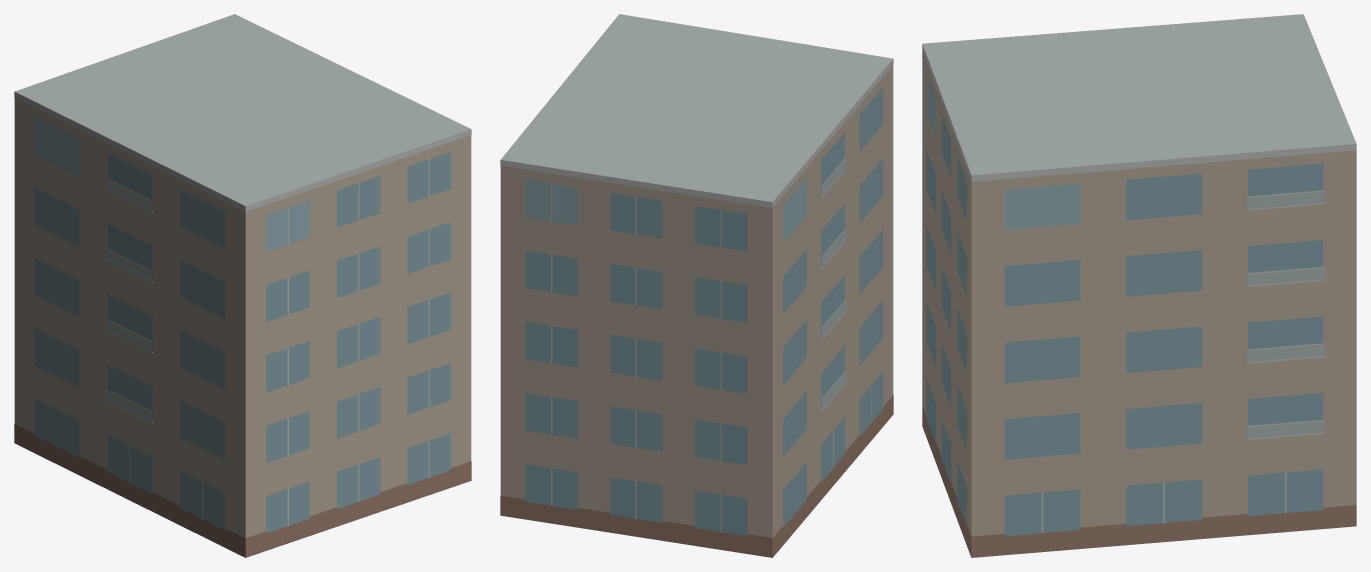
The model's file is survey-upis-32951314.glb.
3 views of the same model, side by side, from view 1: azimuth 30°, elevation 25°; view 2: azimuth 150°, elevation 25°; view 3: azimuth 270°, elevation 25° (orthographic). The views are drawn at different scales.
Parts seen in each view (by area): view 1: survey-upis-32951314.tmp; view 2: survey-upis-32951314.tmp; view 3: survey-upis-32951314.tmp.
Boxes of the visible parts, x1,y1,x2,y2 form: survey-upis-32951314.tmp: (14,14,471,557); survey-upis-32951314.tmp: (500,14,893,557); survey-upis-32951314.tmp: (922,14,1356,557).
Bounding box in the file's own units: 13.05 × 14.4 × 14.83.
